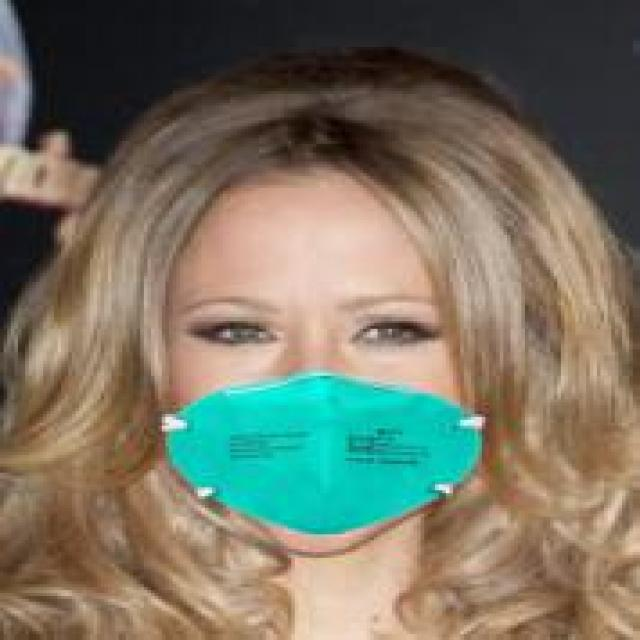mask: (115, 99, 539, 566)
